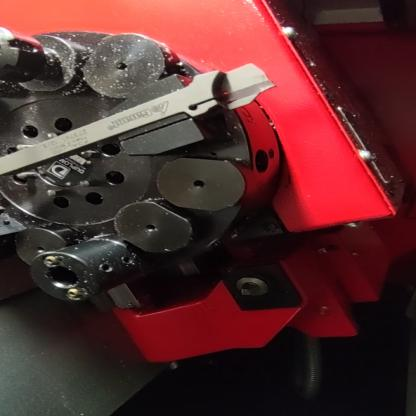bit: (0, 55, 303, 180)
